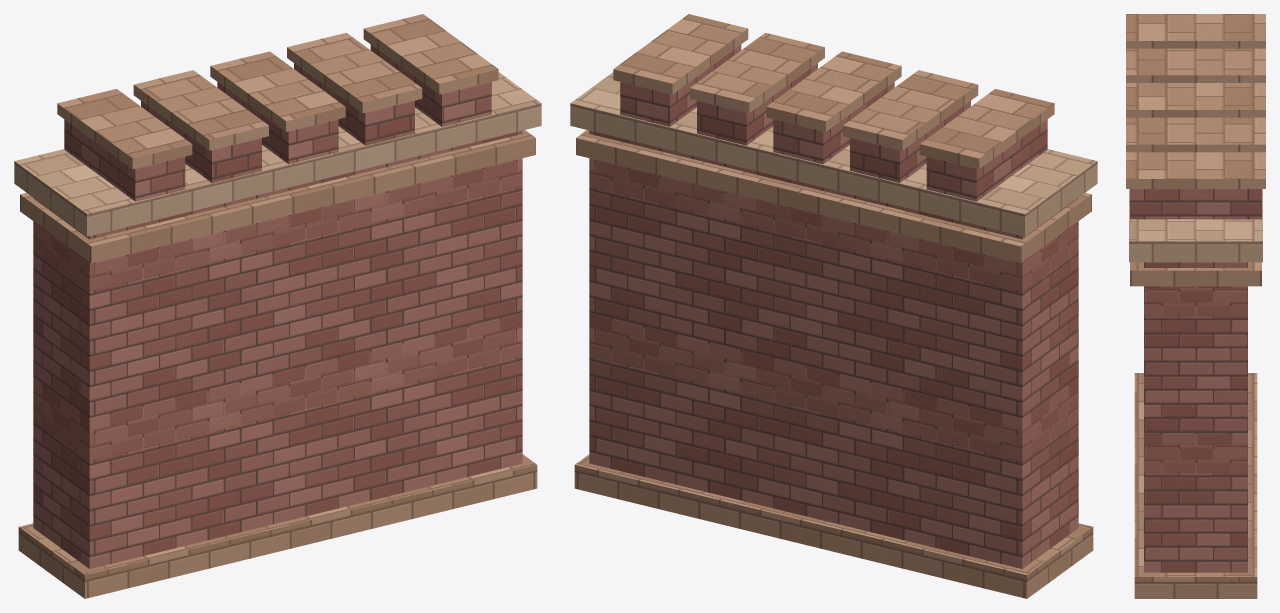
Rendered from Wall_Straight_4m.obj.
3 views of the same model, side by side, from view 1: azimuth 30°, elevation 25°; view 2: azimuth 150°, elevation 25°; view 3: azimuth 270°, elevation 25° (orthographic). The views are drawn at different scales.
Visible parts, largest first — view 1: Brick_Rose, Stone_Sand, Stone_Light; view 2: Brick_Rose, Stone_Sand, Stone_Light; view 3: Brick_Rose, Stone_Sand, Stone_Light.
Boxes of the visible parts, box(x1,y1,x2,y2) form: Brick_Rose: box(33, 45, 522, 568); Stone_Sand: box(18, 14, 537, 598); Stone_Light: box(14, 72, 541, 236); Brick_Rose: box(589, 45, 1078, 568); Stone_Sand: box(574, 14, 1093, 598); Stone_Light: box(570, 72, 1097, 236); Brick_Rose: box(1130, 189, 1261, 572); Stone_Sand: box(1126, 14, 1265, 598); Stone_Light: box(1129, 189, 1262, 262).
Bounding box in the file's own units: 4.2 × 3.82 × 1.21.
3 materials, 3 textured.
